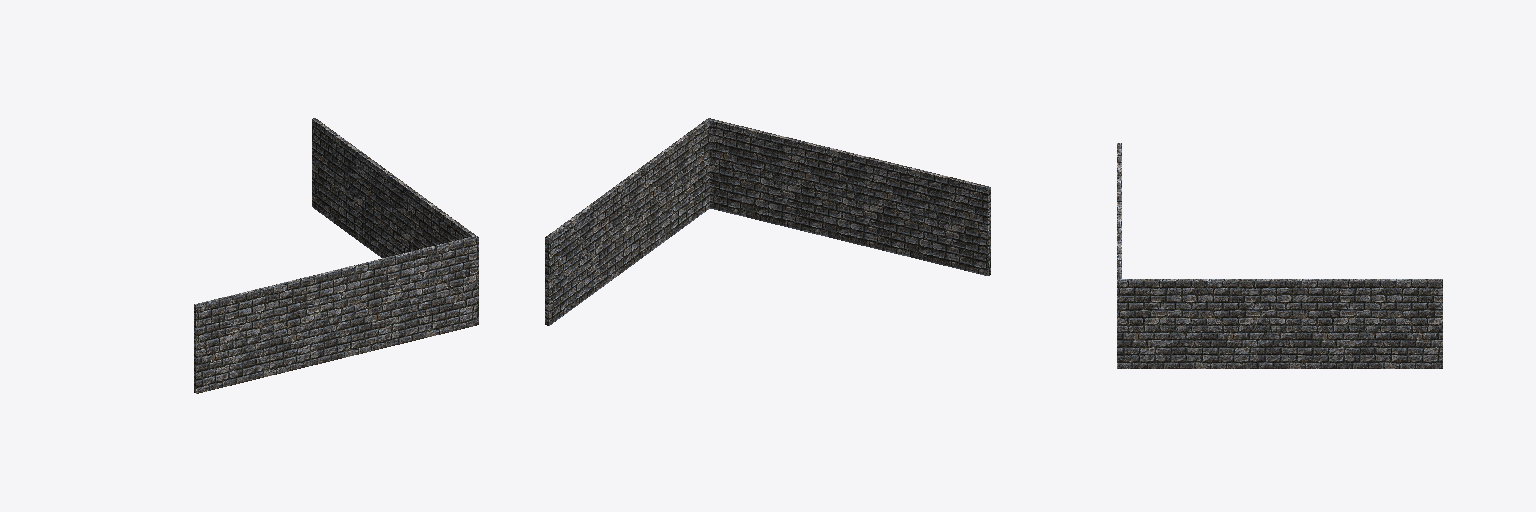
The picture shows the model from 3 angles: view 1: azimuth 30°, elevation 25°; view 2: azimuth 150°, elevation 25°; view 3: azimuth 270°, elevation 25°; orthographic projection.
Bounding box in the file's own units: 1.01 × 0.3 × 1.01.
Materials: 1 (1 with a texture image).